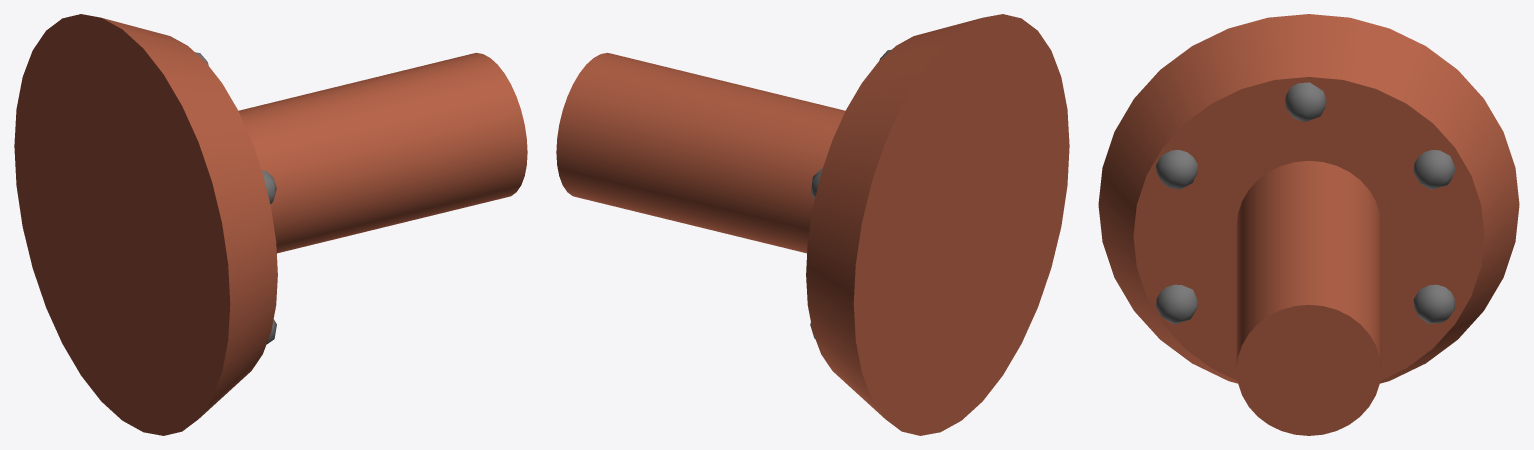
The model's file is habbatTopBase.fbx.
3 renders of one model, left to right at view 1: azimuth 30°, elevation 25°; view 2: azimuth 150°, elevation 25°; view 3: azimuth 270°, elevation 25°, orthographic. The views are drawn at different scales.
Parts seen in each view (by area): view 1: Cylinder.001; view 2: Cylinder.001; view 3: Cylinder.001.
Part boxes in pixels (x1=…): Cylinder.001: x1=14, y1=14, x2=527, y2=435; Cylinder.001: x1=556, y1=14, x2=1069, y2=435; Cylinder.001: x1=1098, y1=14, x2=1519, y2=435.
Size of the model in its own units: 81.77 by 83.06 by 83.06.
